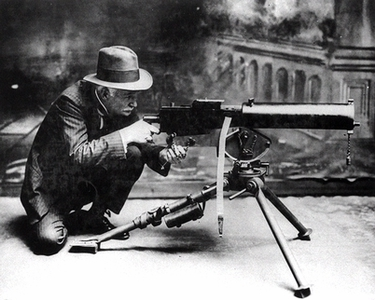rifle: (185, 93, 361, 139)
rifle in hand: (134, 95, 368, 164)
